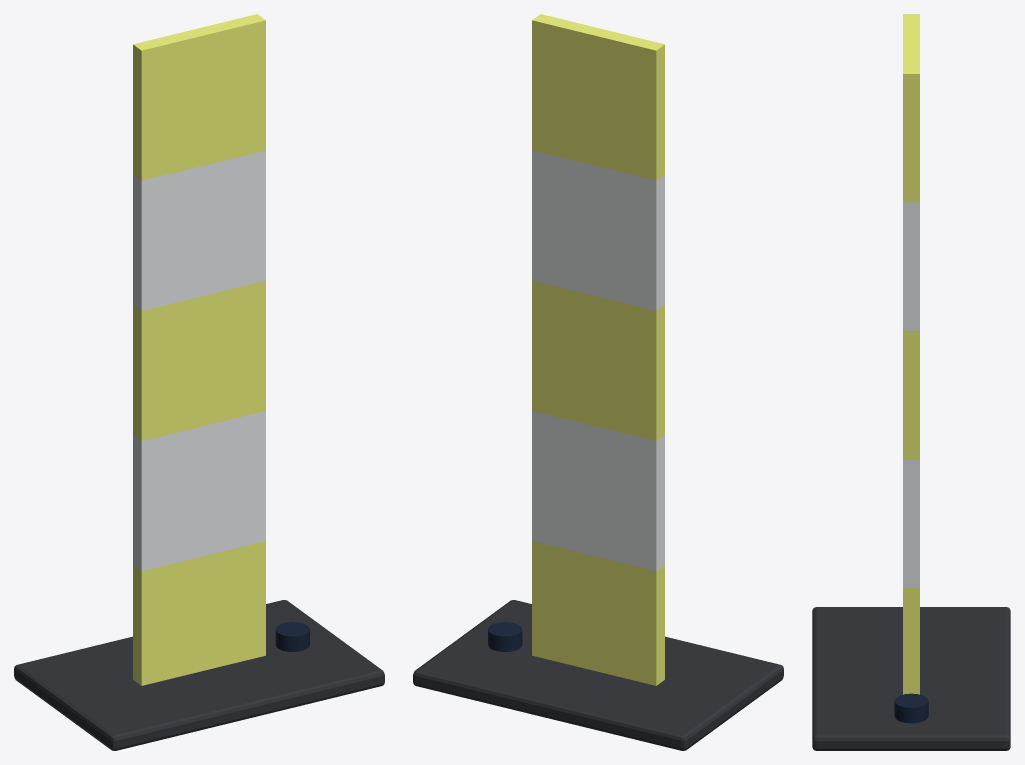
File: tablita.glb
3 renders of one model, left to right at view 1: azimuth 30°, elevation 25°; view 2: azimuth 150°, elevation 25°; view 3: azimuth 270°, elevation 25°, orthographic.
Parts seen in each view (by area): view 1: tablita_cuerpo; view 2: tablita_cuerpo; view 3: tablita_cuerpo.
Boxes of the visible parts, x1,y1,x2,y2 form: tablita_cuerpo: (14,14,384,750); tablita_cuerpo: (413,14,783,750); tablita_cuerpo: (812,14,1010,750).
Size of the model in its own units: 0.22 by 0.5 by 0.14.
